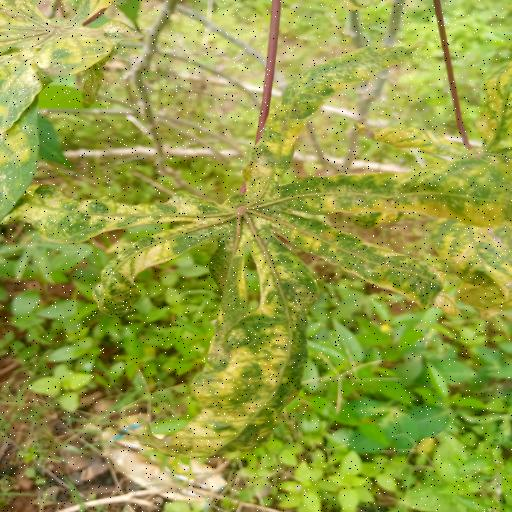Cassava_Mosaic: (11, 43, 512, 463)
